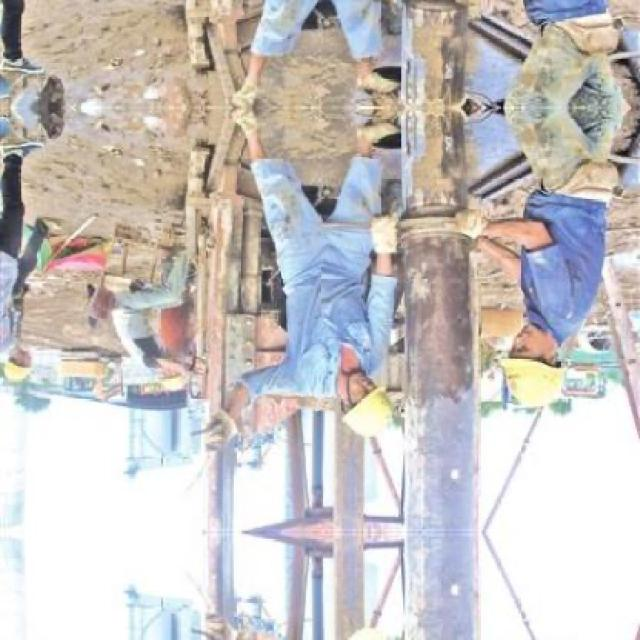con casco: (491, 289, 583, 422), (323, 347, 397, 469)
